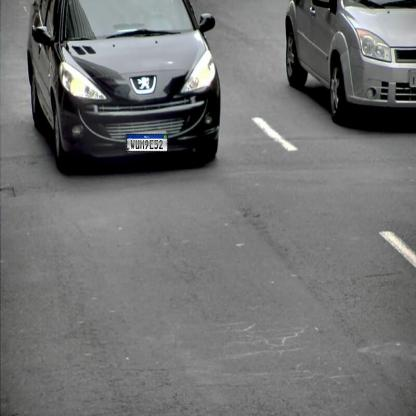PlacaM: (126, 134, 168, 152)
